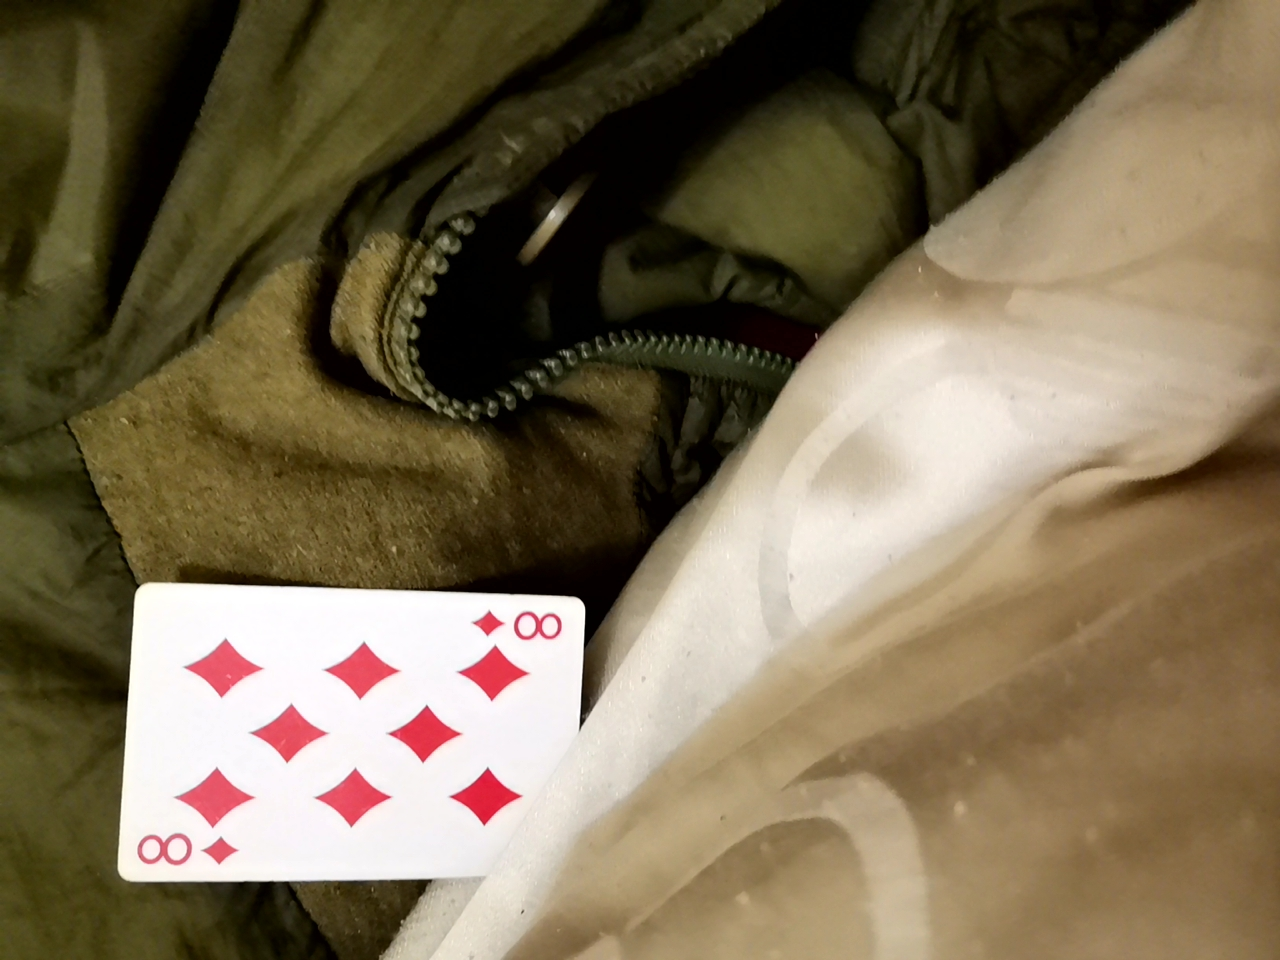fk 8: (146, 585, 595, 903)
